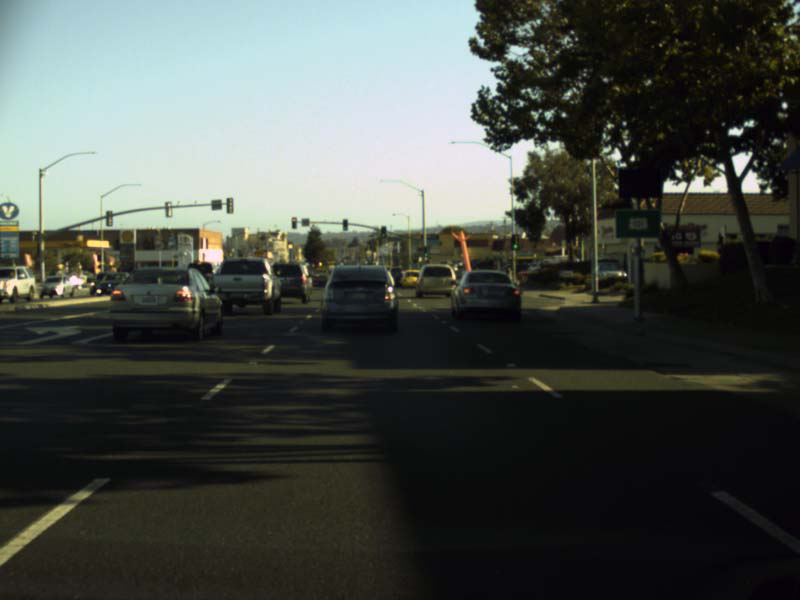Green: (512, 235, 518, 249), (342, 219, 347, 230), (381, 227, 386, 238), (423, 247, 427, 256)
Red: (291, 217, 296, 229)
